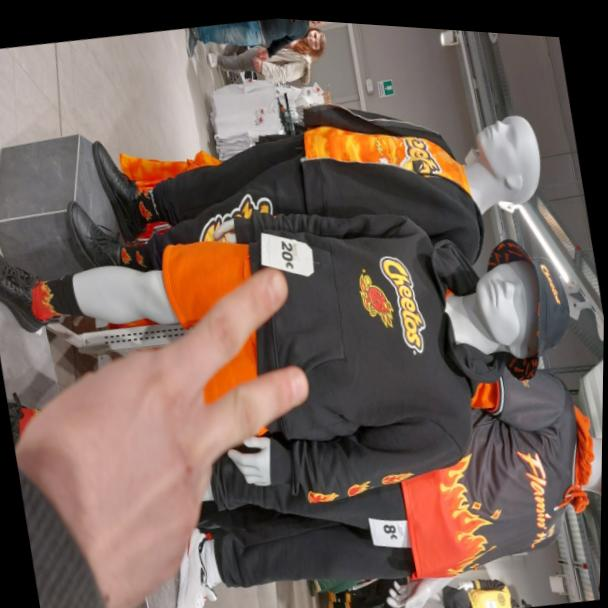two: (13, 212, 360, 603)
